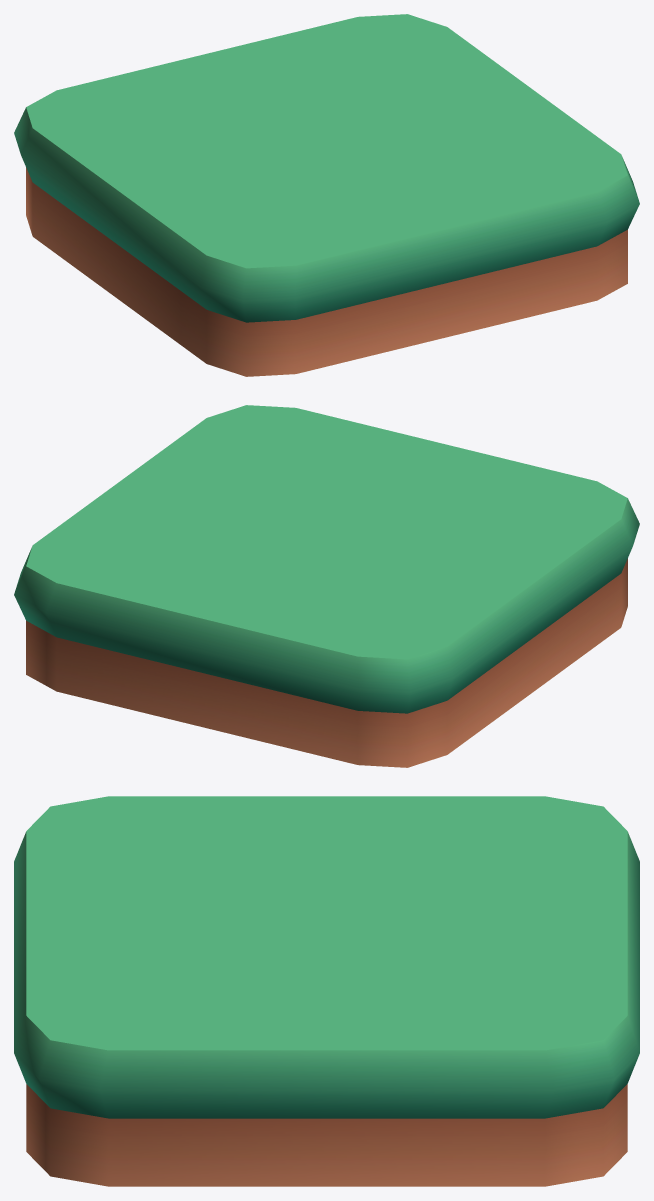
Rendered from kenney-platformer-block-grass-low-large.glb.
3 renders of one model, top to bottom at view 1: azimuth 30°, elevation 25°; view 2: azimuth 150°, elevation 25°; view 3: azimuth 270°, elevation 25°, orthographic. The views are drawn at different scales.
Parts seen in each view (by area): view 1: block-grass-low-large; view 2: block-grass-low-large; view 3: block-grass-low-large.
Boxes of the visible parts, box(x1,y1,x2,y2) form: block-grass-low-large: box(14, 14, 639, 376); block-grass-low-large: box(14, 405, 639, 767); block-grass-low-large: box(14, 796, 639, 1186).
Size of the model in its own units: 2.08 by 0.5 by 2.08.
1 material, 1 textured.
